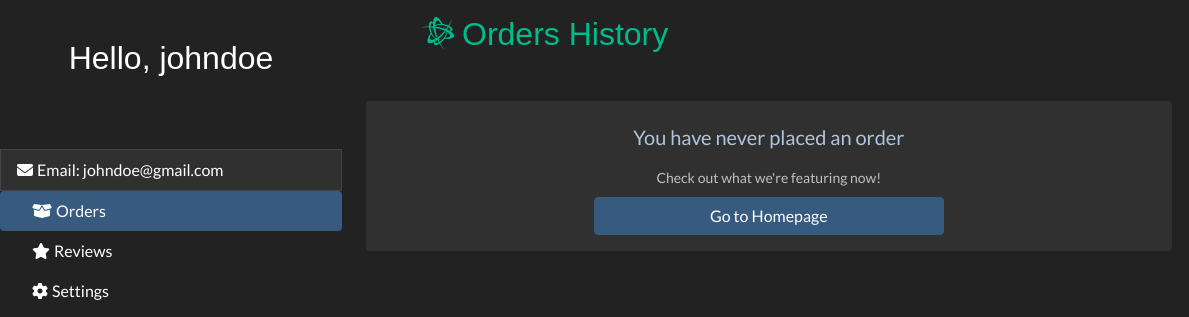
Test case: click reviews tab
Click the tab "Reviews": click(83, 251) left=54, top=241, right=112, bottom=260
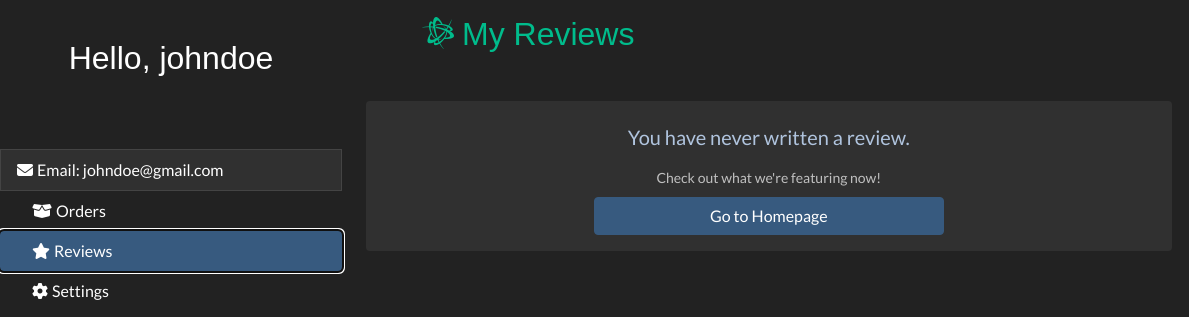
Check: the button "My Reviews" is shown, box left=462, top=16, right=634, bottom=52
